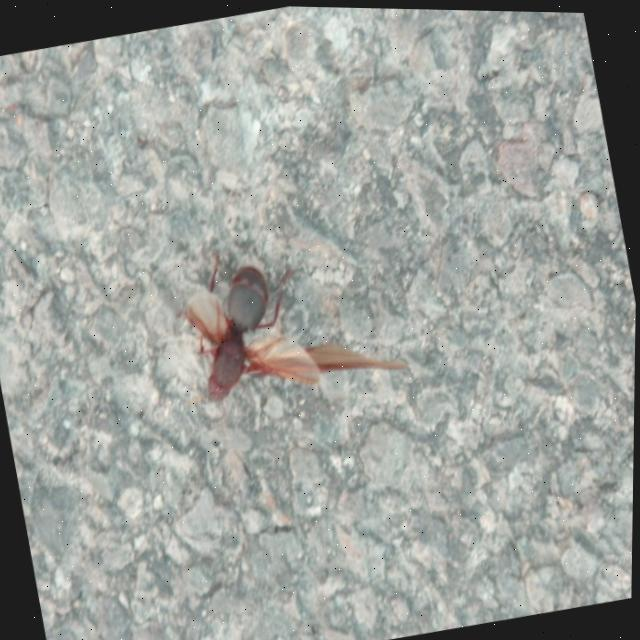Alive-Female-Alate: (162, 214, 417, 430)
